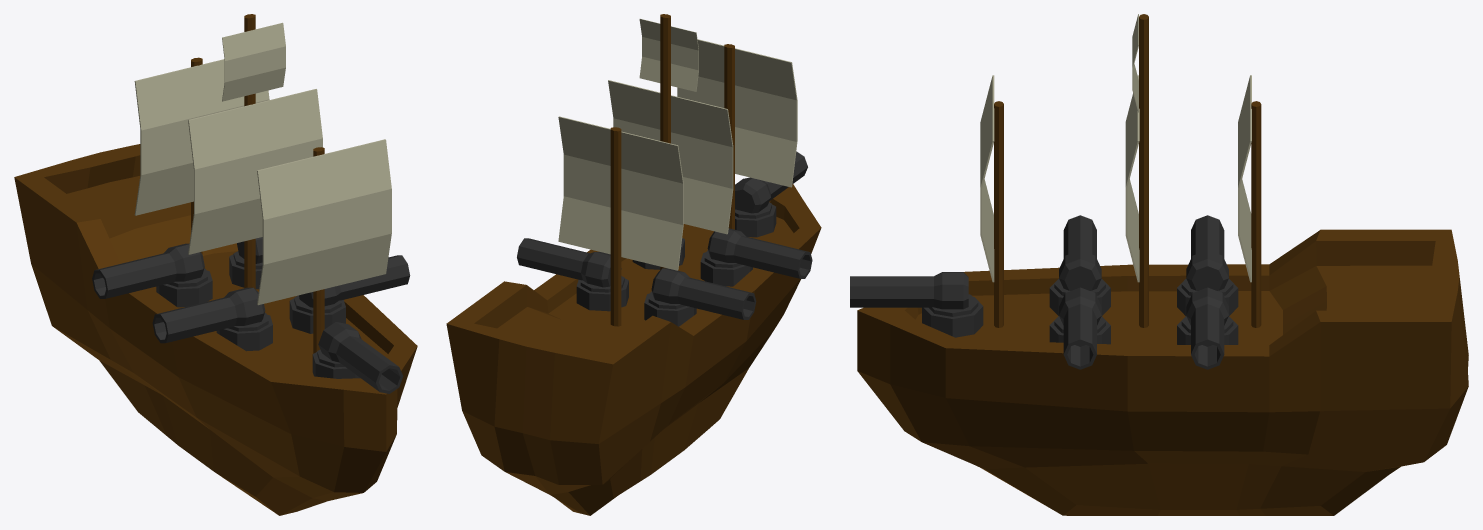
File: BattleShip.glb
3 renders of one model, left to right at view 1: azimuth 30°, elevation 25°; view 2: azimuth 150°, elevation 25°; view 3: azimuth 270°, elevation 25°, orthographic. The views are drawn at different scales.
Visible parts, largest first — view 1: BattleBoat, ShipSail.002, ShipSail.001, ShipSail.003, ShipSail.013, Cannon.003, Cannon.005, Cannon.001, Cannon.002, CannonBase.005, CannonBase.003, CannonBase.002 (+2 smaller); view 2: BattleBoat, ShipSail.003, ShipSail.002, ShipSail.001, Cannon.005, Cannon.003, ShipSail.013, Cannon.004, Cannon.001, CannonBase.003, CannonBase.004, CannonBase.001 (+1 smaller); view 3: BattleBoat, Cannon.001, Cannon.002, Cannon.004, Cannon.003, Cannon.005, ShipSail.002, ShipSail.003, ShipSail.001, CannonBase.001, CannonBase.003, CannonBase.005 (+1 smaller).
Boxes of the visible parts, bbox=[...] form: BattleBoat: bbox=[14, 14, 417, 515]; ShipSail.002: bbox=[257, 139, 391, 305]; ShipSail.001: bbox=[188, 89, 322, 254]; ShipSail.003: bbox=[134, 59, 269, 215]; ShipSail.013: bbox=[222, 22, 285, 101]; Cannon.003: bbox=[152, 287, 265, 343]; Cannon.005: bbox=[92, 243, 204, 298]; Cannon.001: bbox=[318, 322, 403, 393]; Cannon.002: bbox=[299, 255, 410, 307]; CannonBase.005: bbox=[156, 268, 212, 307]; CannonBase.003: bbox=[216, 312, 272, 351]; CannonBase.002: bbox=[289, 295, 345, 333]; BattleBoat: bbox=[446, 14, 821, 515]; ShipSail.003: bbox=[558, 116, 683, 270]; ShipSail.002: bbox=[677, 39, 797, 187]; ShipSail.001: bbox=[608, 80, 733, 234]; Cannon.005: bbox=[651, 268, 756, 319]; Cannon.003: bbox=[707, 228, 812, 278]; ShipSail.013: bbox=[639, 18, 698, 91]; Cannon.004: bbox=[517, 238, 621, 287]; Cannon.001: bbox=[735, 151, 807, 213]; CannonBase.003: bbox=[700, 250, 752, 286]; CannonBase.004: bbox=[576, 276, 628, 311]; CannonBase.001: bbox=[735, 202, 776, 237]; BattleBoat: bbox=[857, 14, 1468, 515]; Cannon.001: bbox=[850, 272, 968, 309]; Cannon.002: bbox=[1059, 287, 1101, 369]; Cannon.004: bbox=[1186, 287, 1228, 369]; Cannon.003: bbox=[1059, 215, 1101, 290]; Cannon.005: bbox=[1186, 215, 1228, 290]; ShipSail.002: bbox=[980, 75, 994, 282]; ShipSail.003: bbox=[1238, 75, 1251, 282]; ShipSail.001: bbox=[1125, 75, 1139, 282]; CannonBase.001: bbox=[922, 294, 983, 337]; CannonBase.003: bbox=[1049, 279, 1110, 315]; CannonBase.005: bbox=[1177, 279, 1238, 315].
Size of the model in its own units: 2.64 by 4.9 by 5.56.
